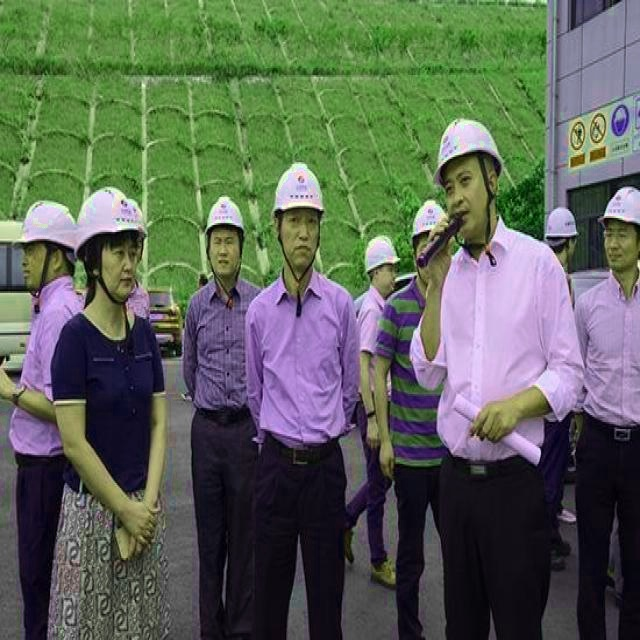Con_Casco: (270, 160, 326, 268)
Sin_Chaleco: (246, 275, 359, 451)
